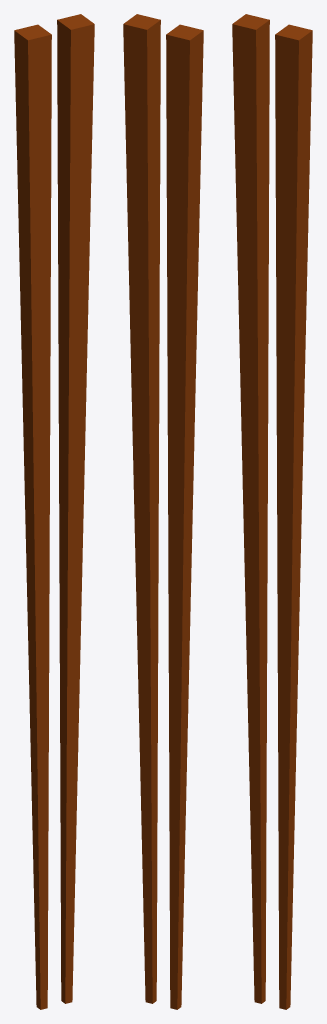
Rendered from Chopstick.FBX.
3 renders of one model, left to right at view 1: azimuth 30°, elevation 25°; view 2: azimuth 150°, elevation 25°; view 3: azimuth 330°, elevation 25°, orthographic.
Visible parts, largest first — view 1: Chopstick; view 2: Chopstick; view 3: Chopstick.
Boxes of the visible parts, x1,y1,x2,y2 form: Chopstick: (14,14,94,1009); Chopstick: (123,14,203,1009); Chopstick: (232,14,312,1009).
Bounding box in the file's own units: 8.01 × 112 × 2.86.
